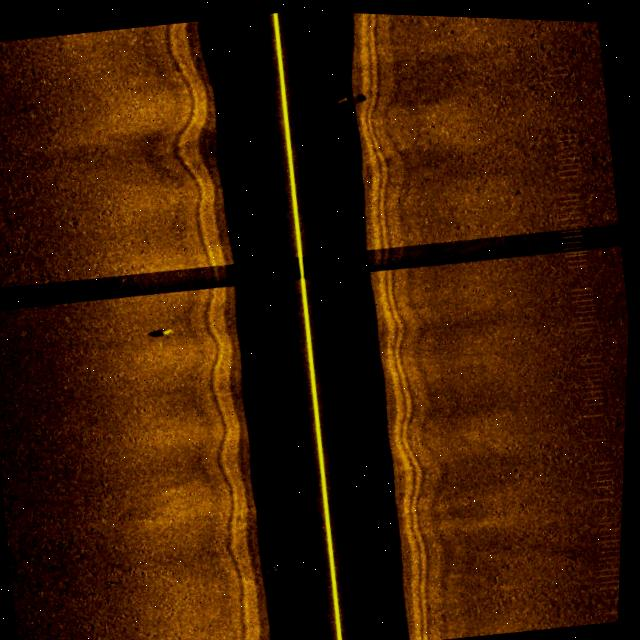mine: (145, 320, 181, 345)
other: (334, 86, 372, 108)
